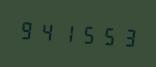five: (78, 20, 97, 48), (98, 21, 117, 49)
four: (37, 17, 56, 45)
nine: (17, 15, 36, 44)
one: (58, 18, 77, 46)
three: (118, 22, 137, 51)
